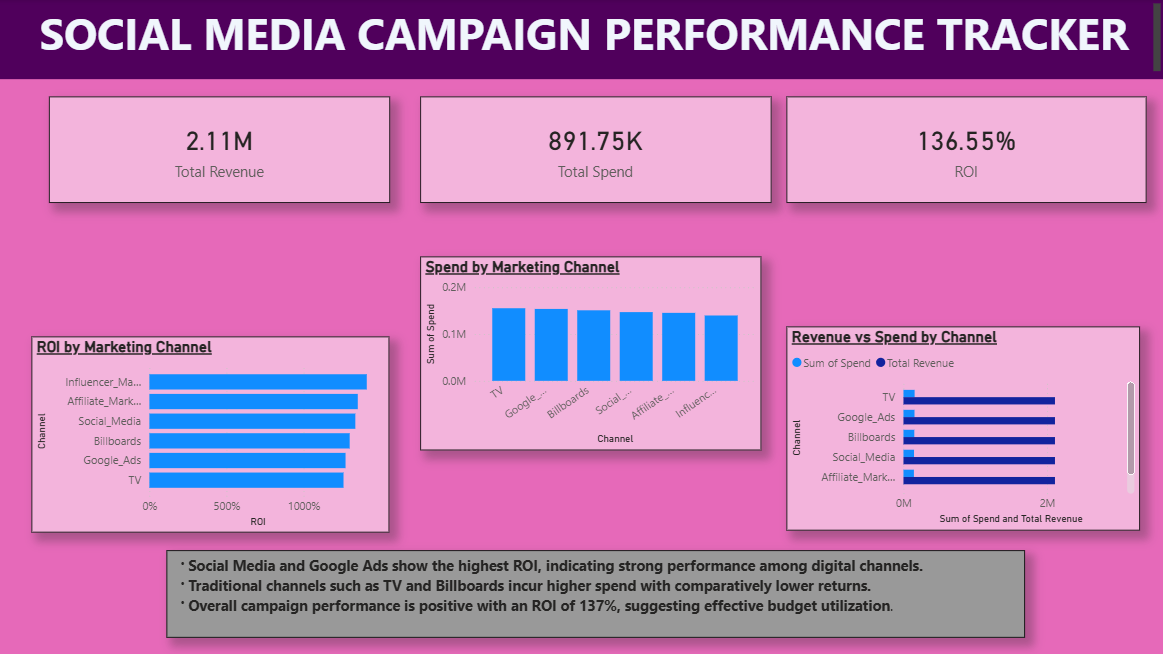

Layout of this report page (visuals, bound fields, positions):
{"tool":"powerbi","page":{"name":"Page 1","canvas":[1280,720],"ordinal":0},"visuals":[{"type":"card","fields":{"Values":["Advertising_Data.Total Revenue"]},"box":[155.1,70,192.1,82.3],"z":0},{"type":"card","fields":{"Values":["Advertising_Data.Total Spend"]},"box":[447.3,52.1,385.6,116.6],"z":4},{"type":"card","fields":{"Values":["Advertising_Data.ROI"]},"box":[784.9,35.7,404.8,150.9],"z":5},{"type":"clusteredColumnChart","title":"Spend by Marketing Channel","fields":{"Category":["Advertising_Data.Channel"],"Y":["Sum(Advertising_Data.Spend)"]},"box":[451.5,215.4,374.6,199],"z":7},{"type":"barChart","title":"ROI by Marketing Channel","fields":{"Category":["Advertising_Data.Channel"],"Y":["Advertising_Data.ROI"]},"box":[54.9,370.5,392.5,215.4],"z":8},{"type":"clusteredBarChart","title":"Revenue vs Spend by Channel","fields":{"Category":["Advertising_Data.Channel"],"Y":["Sum(Advertising_Data.Spend)","Advertising_Data.Total Revenue"]},"box":[860.4,367.8,388.3,223.7],"z":9},{"type":"textbox","box":[231.9,609.3,942.7,96.1],"z":10}]}

Visuals, with their boxes in screenshot pixels (x1, y1, x2, y2), scaled from the page's 1280x720 canvas onto the 1163x654 screenshot:
card - Advertising_Data.Total Revenue: [141, 64, 315, 138]
card - Advertising_Data.Total Spend: [406, 47, 757, 153]
card - Advertising_Data.ROI: [713, 32, 1081, 169]
"Spend by Marketing Channel" clusteredColumnChart: [410, 196, 751, 376]
"ROI by Marketing Channel" barChart: [50, 337, 407, 532]
"Revenue vs Spend by Channel" clusteredBarChart: [782, 334, 1135, 537]
textbox: [211, 553, 1067, 641]
